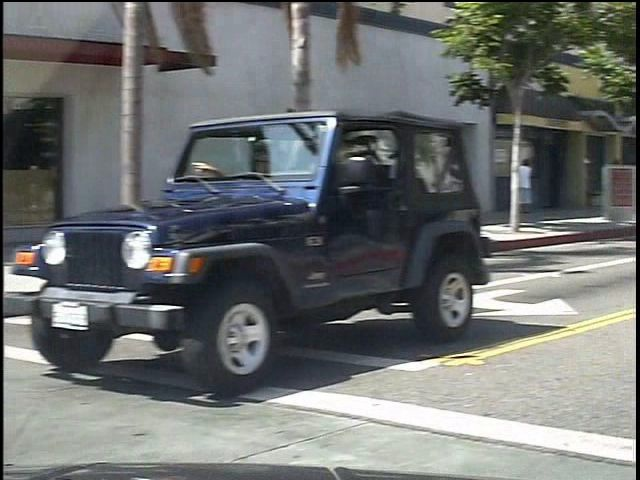person: (532, 149, 556, 232)
